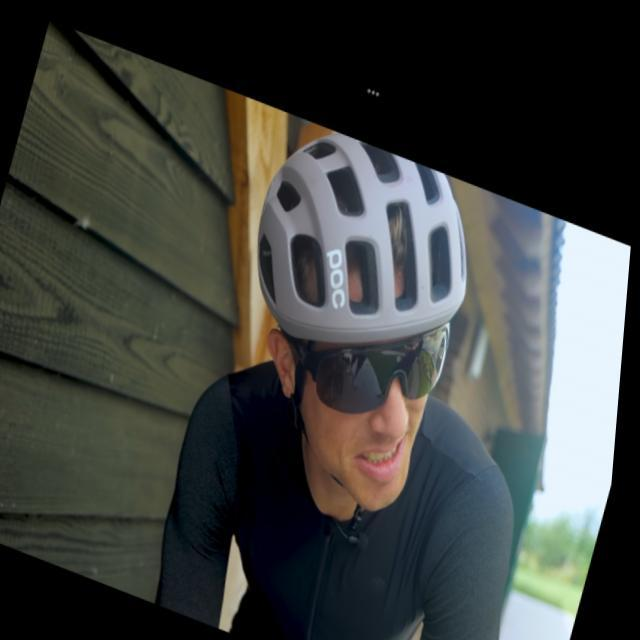Helmet: (254, 130, 469, 522)
